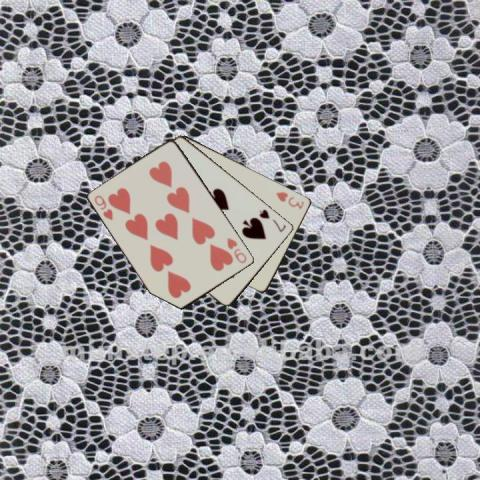3h: (273, 189, 306, 210)
7s: (257, 206, 287, 233)
9h: (224, 234, 249, 264), (91, 192, 115, 222)
